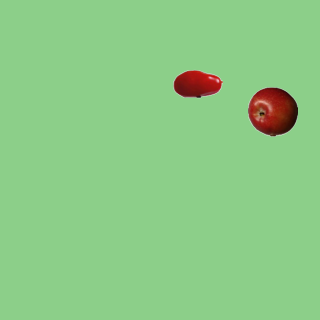Apple Braeburn: (247, 86, 297, 136)
Tomato 2: (172, 58, 222, 108)
